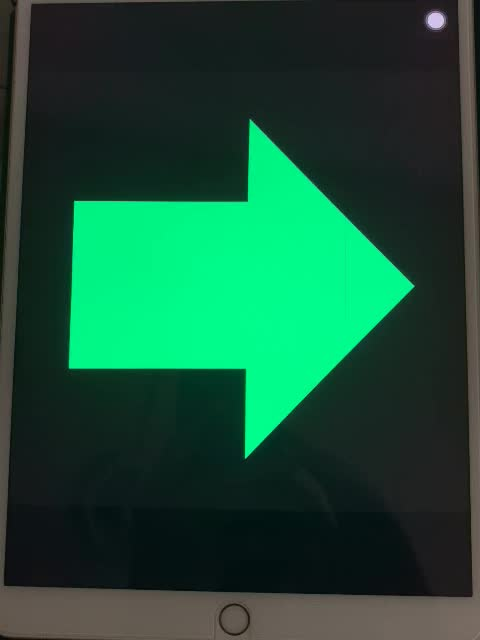right: (62, 112, 421, 466)
